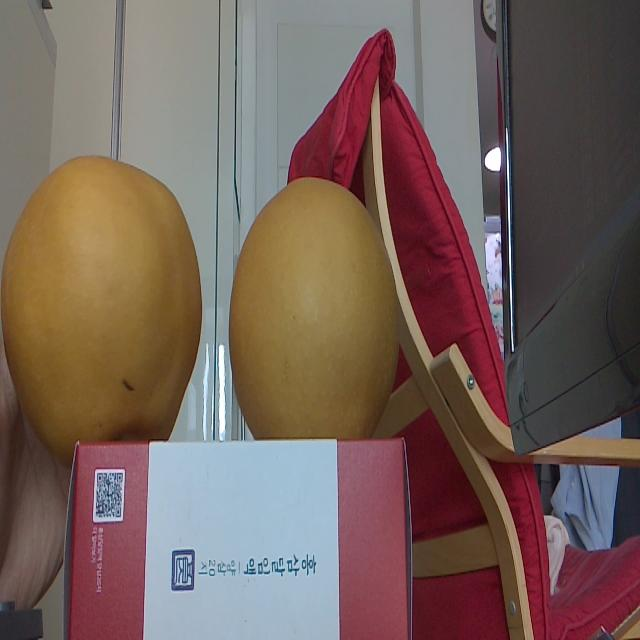pear: (2, 152, 205, 448), (225, 171, 411, 437)
